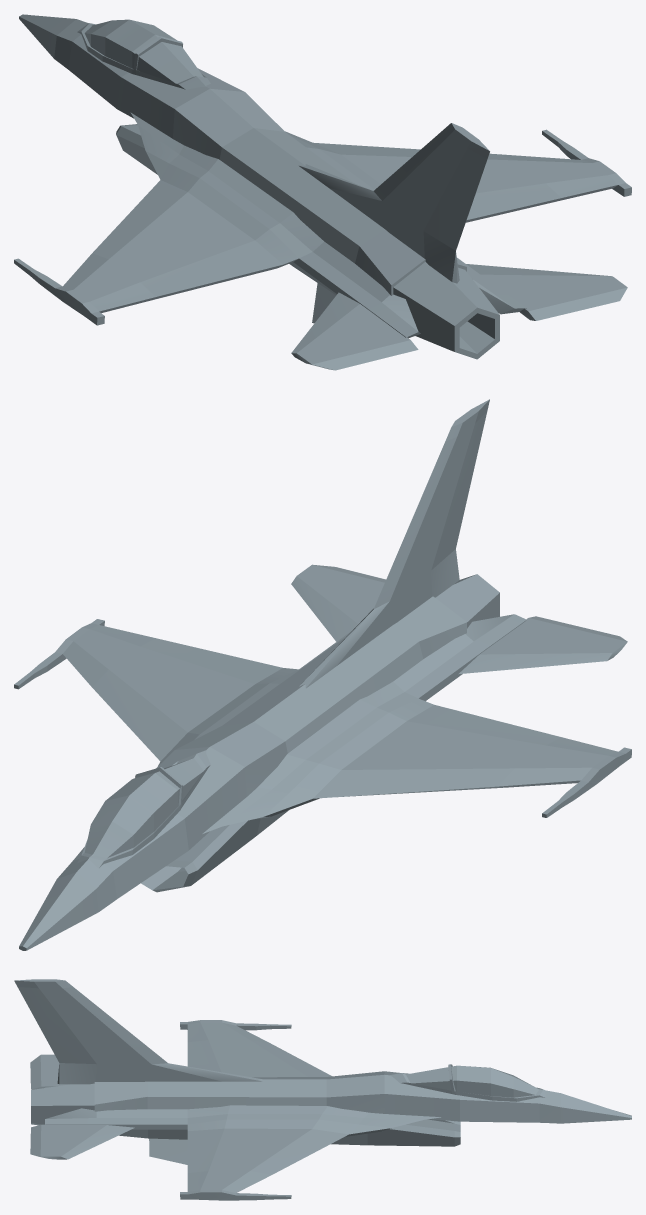
Rendered from model-aircraft-ff-5.glb.
3 renders of one model, top to bottom at view 1: azimuth 30°, elevation 25°; view 2: azimuth 150°, elevation 25°; view 3: azimuth 270°, elevation 25°, orthographic. The views are drawn at different scales.
Size of the model in its own units: 24.23 by 11.25 by 36.68.
